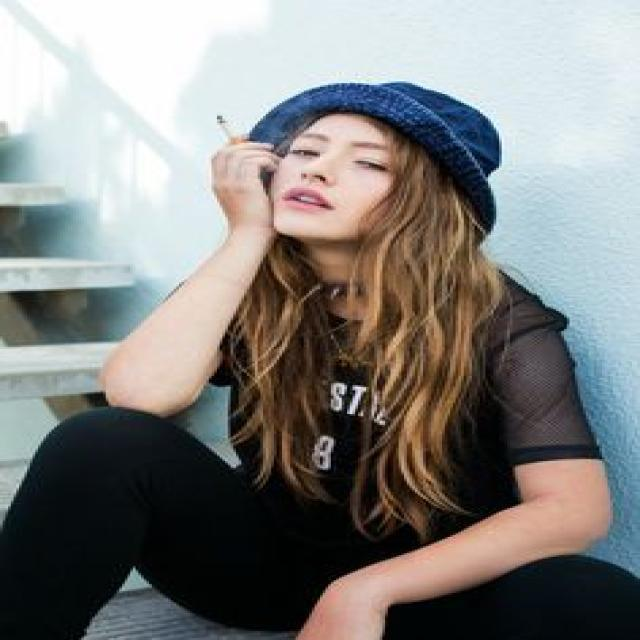rokok: (215, 115, 249, 145)
